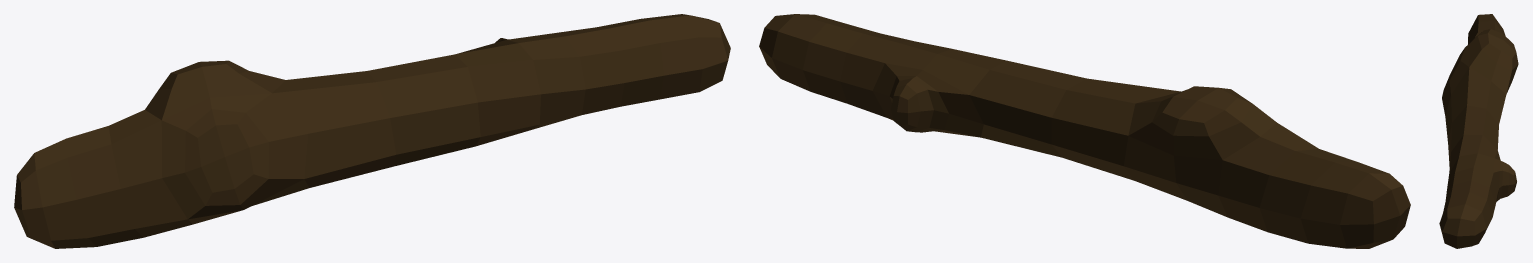
File: stick2.fbx
3 renders of one model, left to right at view 1: azimuth 30°, elevation 25°; view 2: azimuth 150°, elevation 25°; view 3: azimuth 270°, elevation 25°, orthographic. The views are drawn at different scales.
Parts seen in each view (by area): view 1: stick.02; view 2: stick.02; view 3: stick.02.
Part boxes in pixels (left/top/right/bottom): stick.02: left=14, top=14, right=730, bottom=248; stick.02: left=759, top=14, right=1410, bottom=248; stick.02: left=1439, top=14, right=1518, bottom=248.
Size of the model in its own units: 1770 by 358 by 284.
